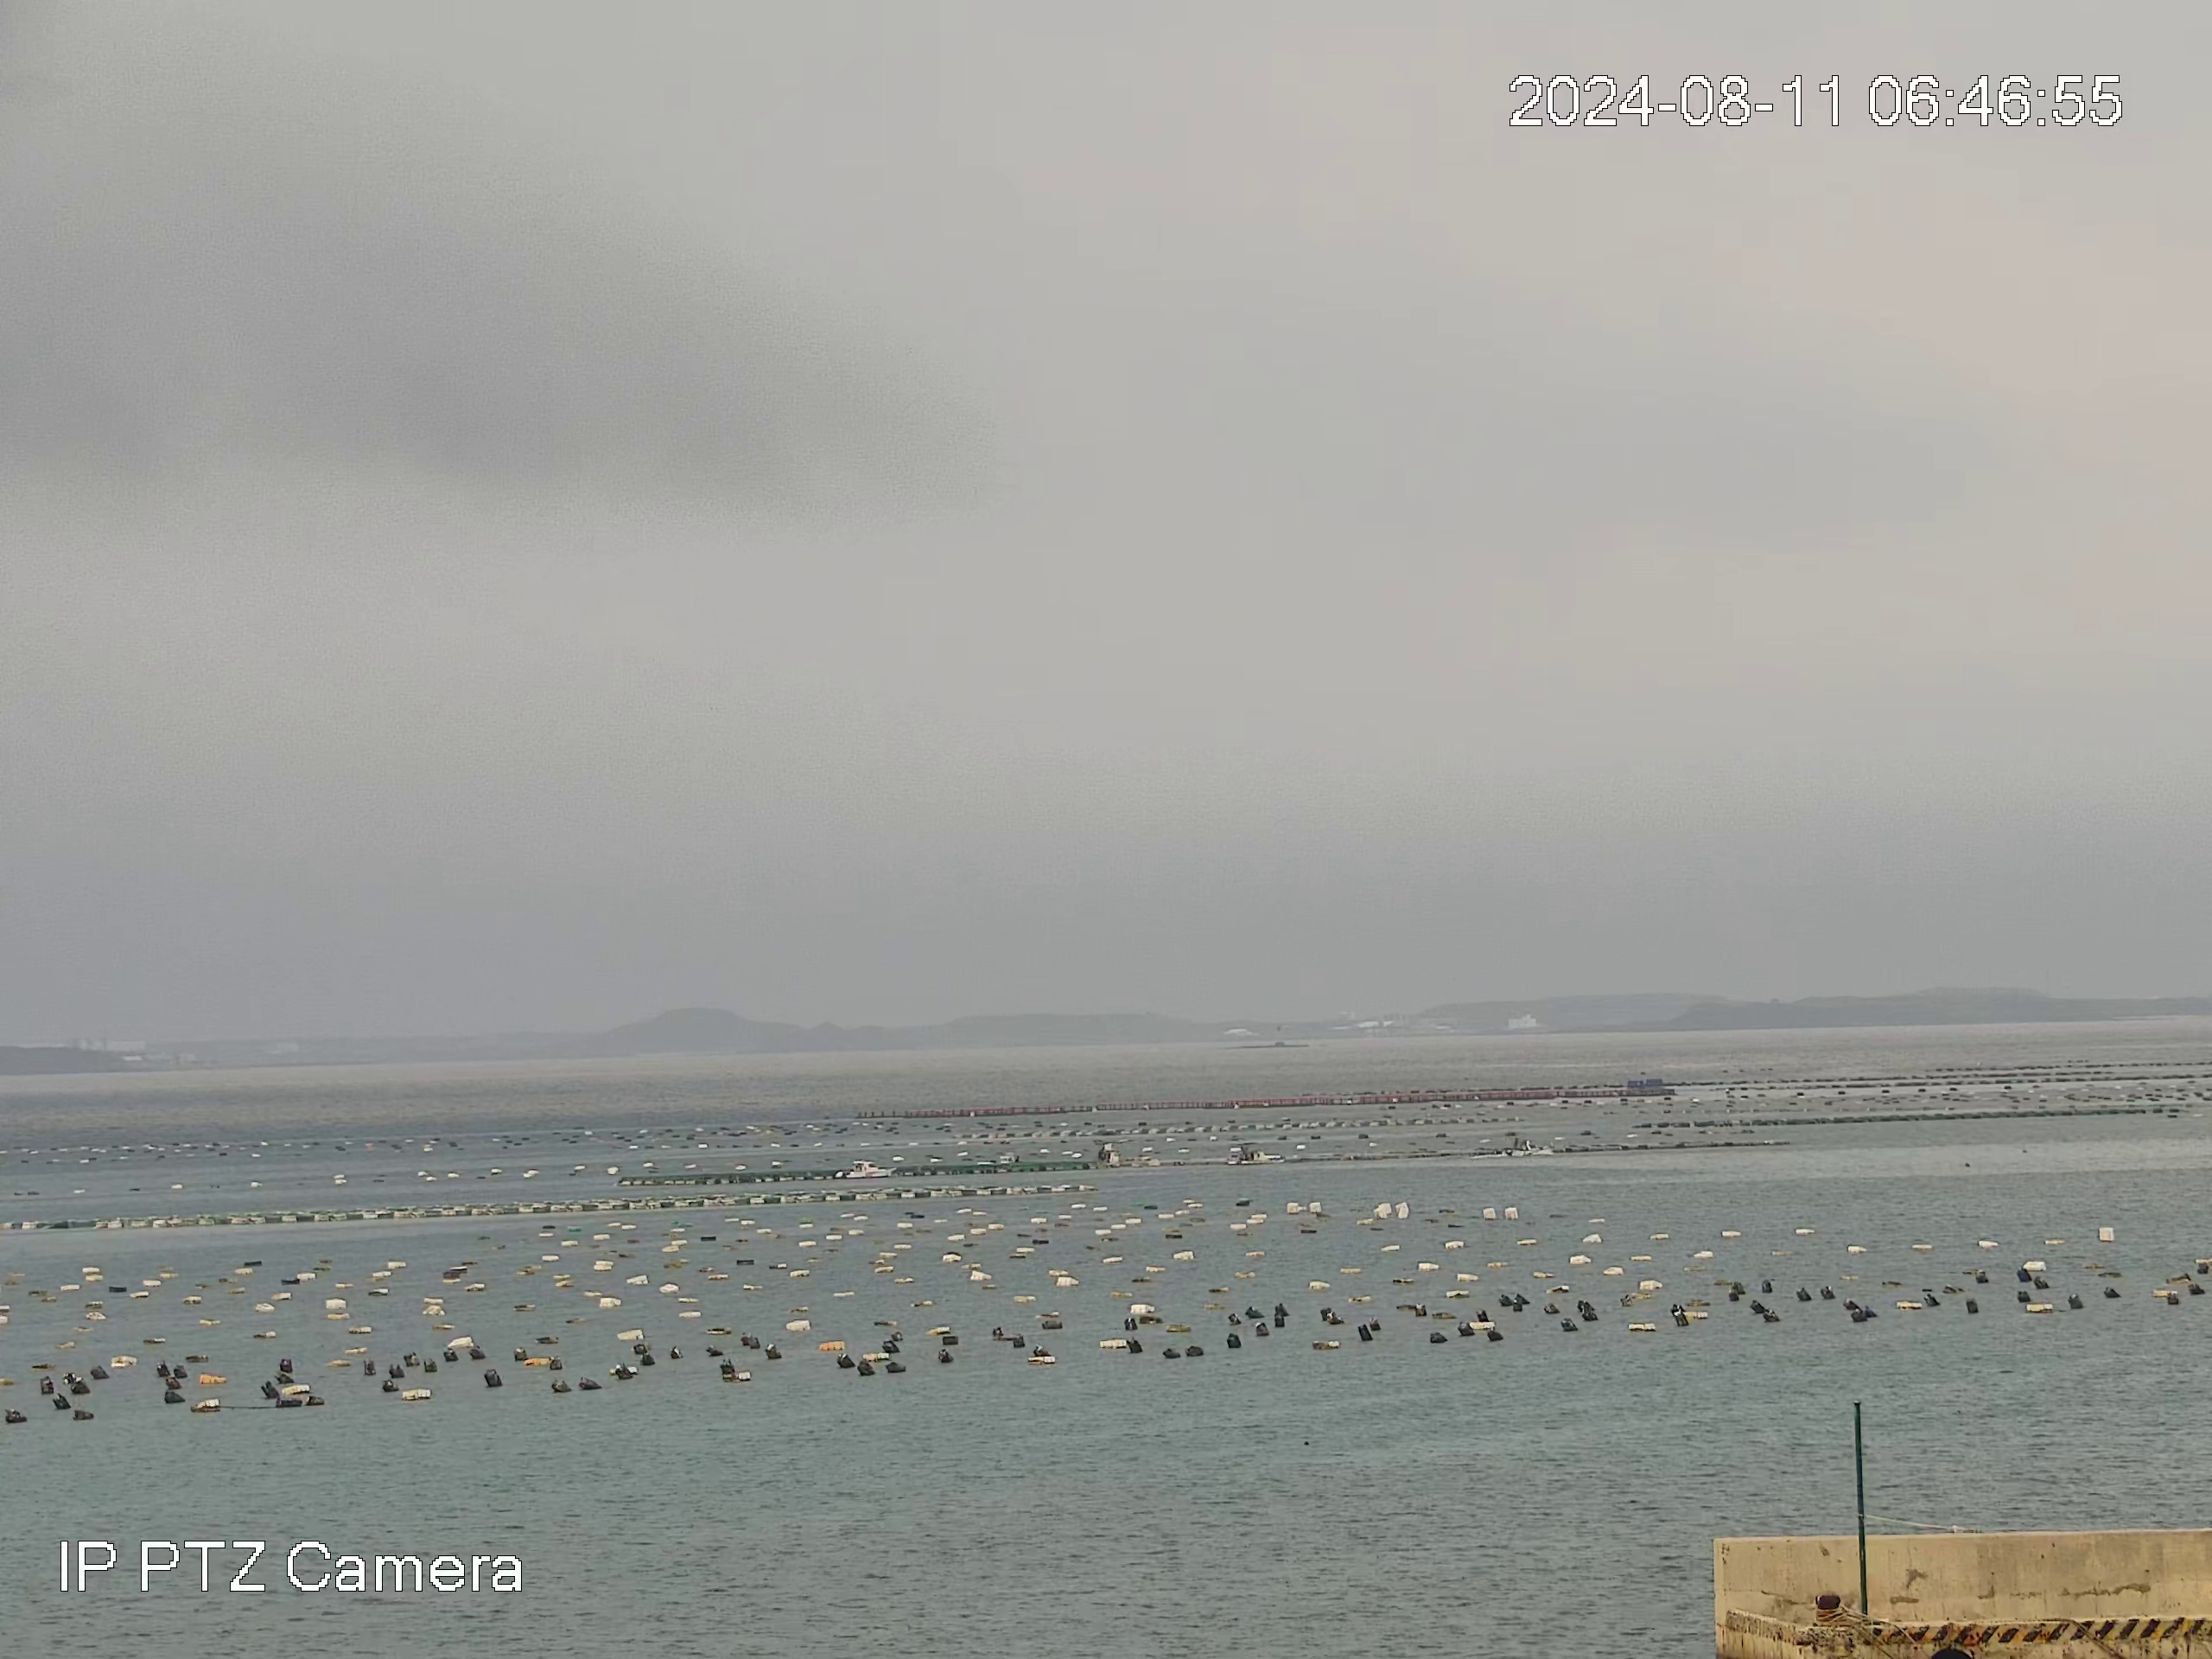boat: (1226, 1140, 1285, 1166), (1500, 1129, 1548, 1157), (831, 1159, 895, 1178)
